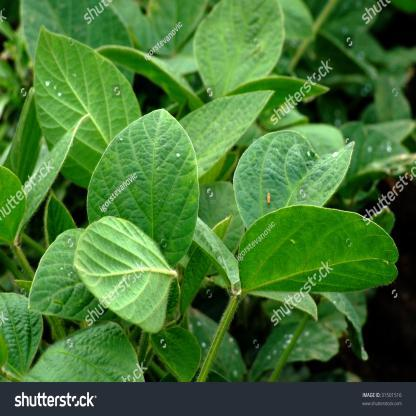Soyabean leaf: (230, 195, 404, 306), (82, 106, 198, 272), (35, 19, 142, 188), (232, 122, 359, 249), (70, 210, 182, 330)
